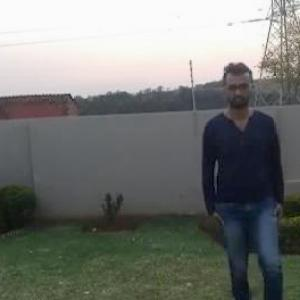follow: (196, 54, 278, 299)
